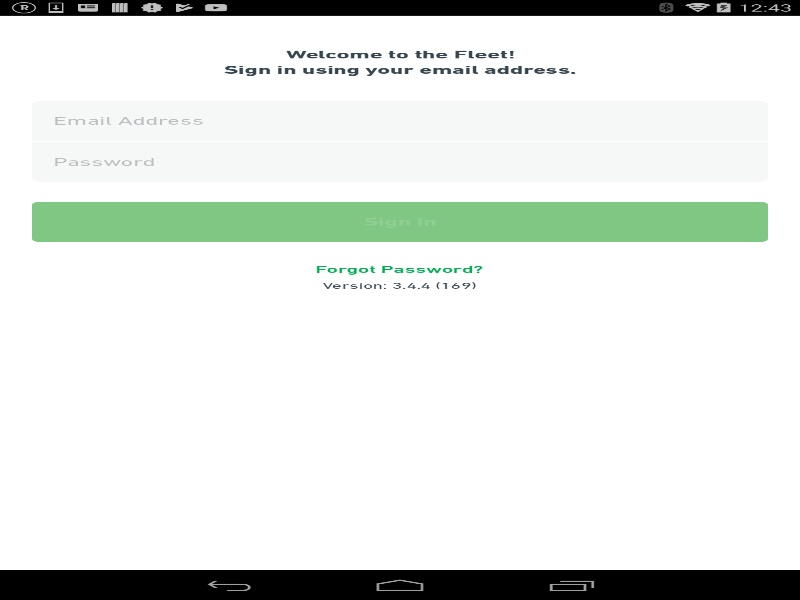Button: (32, 201, 768, 241)
Input: (32, 100, 746, 140), (32, 141, 746, 181)
